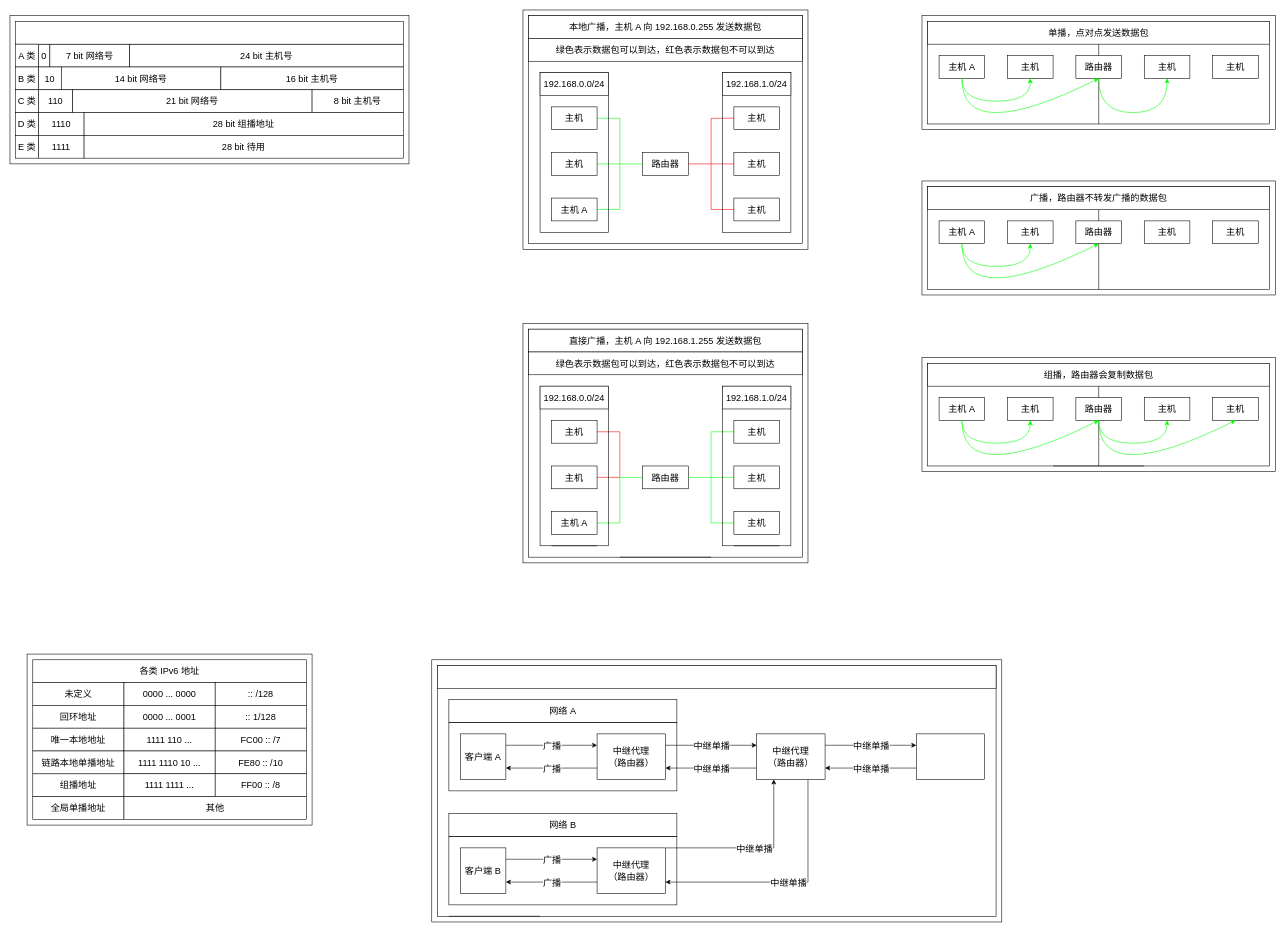
This 1285x932 diagram has some shape labels left out. Here are the shapes that lost their labels. From the top down, the centre of each, then its label:
the point at 209,32: 各类 IPv4 地址
the point at 716,676: 中继代理示意图
the point at 950,756: DHCP 服务端
